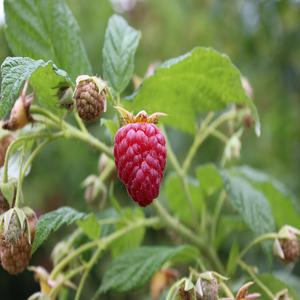raspb: (110, 116, 171, 208)
